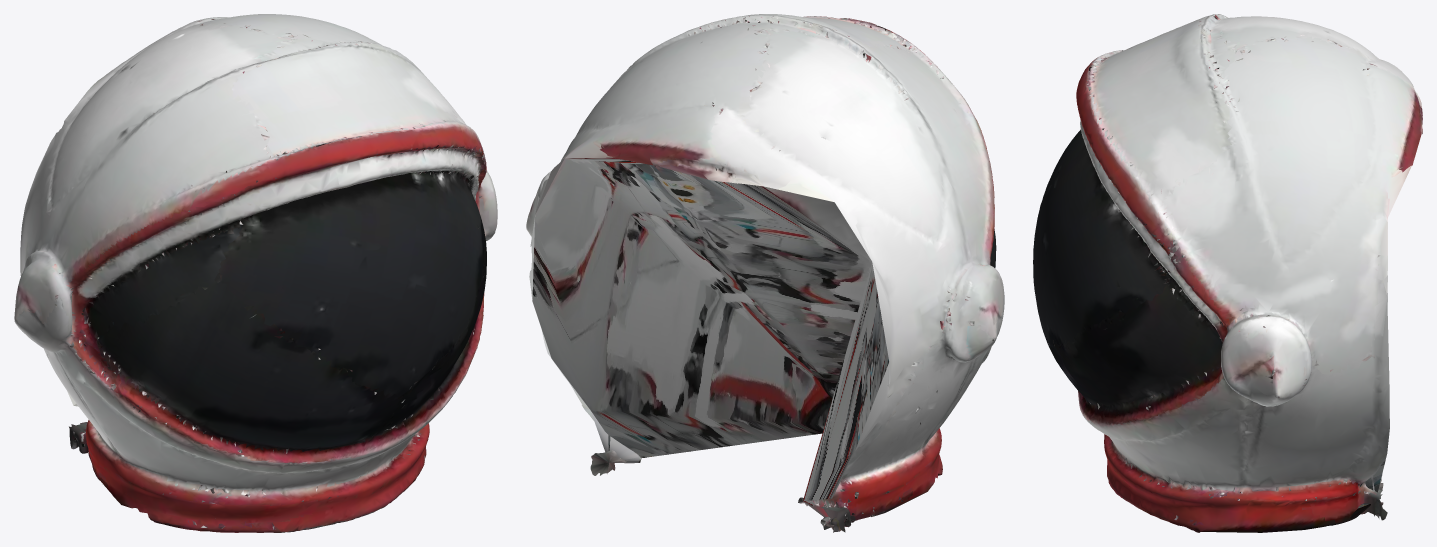
The model's file is astronaut_head.glb.
3 renders of one model, left to right at view 1: azimuth 30°, elevation 25°; view 2: azimuth 150°, elevation 25°; view 3: azimuth 270°, elevation 25°, orthographic.
Visible parts, largest first — view 1: mesh_0001; view 2: mesh_0001; view 3: mesh_0001.
Part boxes in pixels (<box>): mesh_0001: <box>14,14,497,532</box>; mesh_0001: <box>526,14,1004,532</box>; mesh_0001: <box>1033,14,1422,532</box>.
Size of the model in its own units: 0.8773 by 0.7637 by 0.6227.
Materials: 1 (1 with a texture image).
